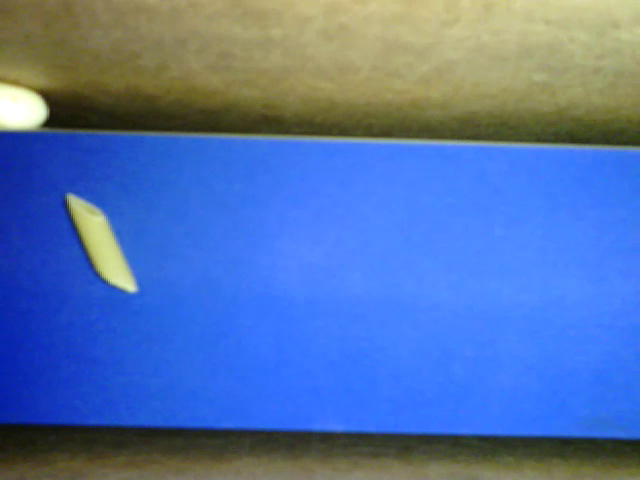penne: (66, 192, 140, 292)
